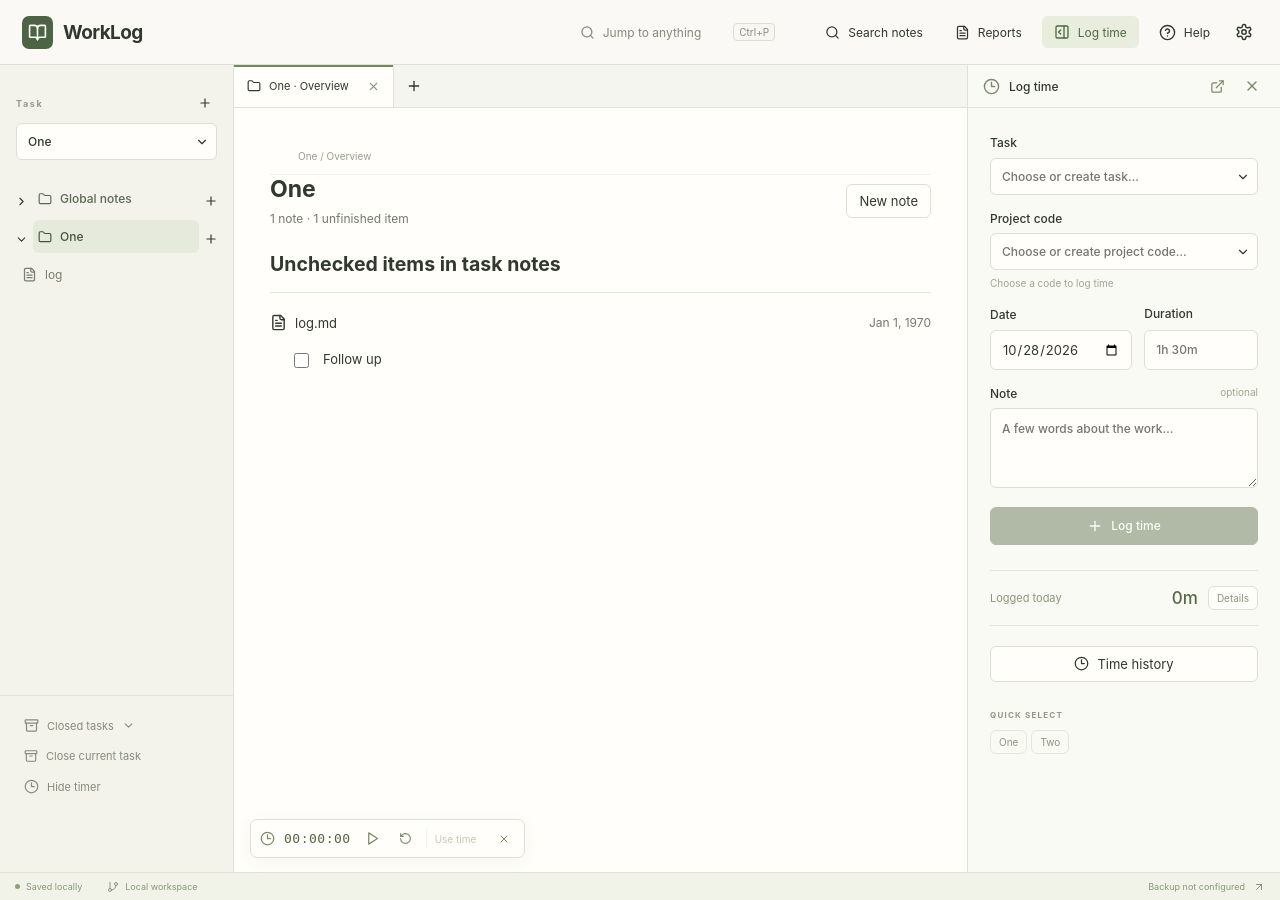
retains an explicitly selected time-entry task and its default code while another task is open
This screenshot has width=1280, height=900.
Click the 1st button titled "Open One overview · Drop here to move to One".
click(116, 236)  # box 33,220 -> 199,253
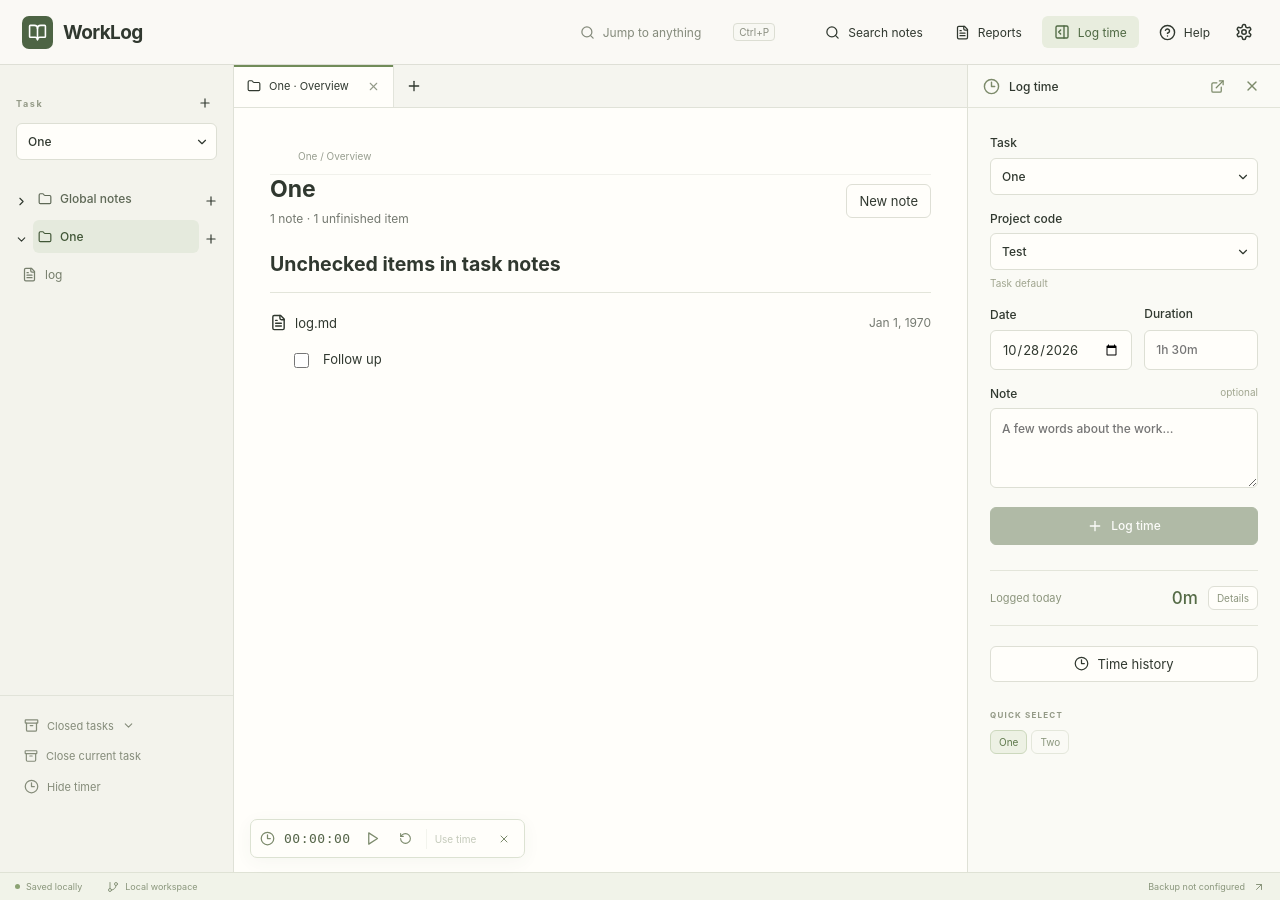
expect the 2nd dropdown named "task" holds "One": met
Focus the 2nd dropdown named "task" at (1124, 176), box 990,158 -> 1258,195
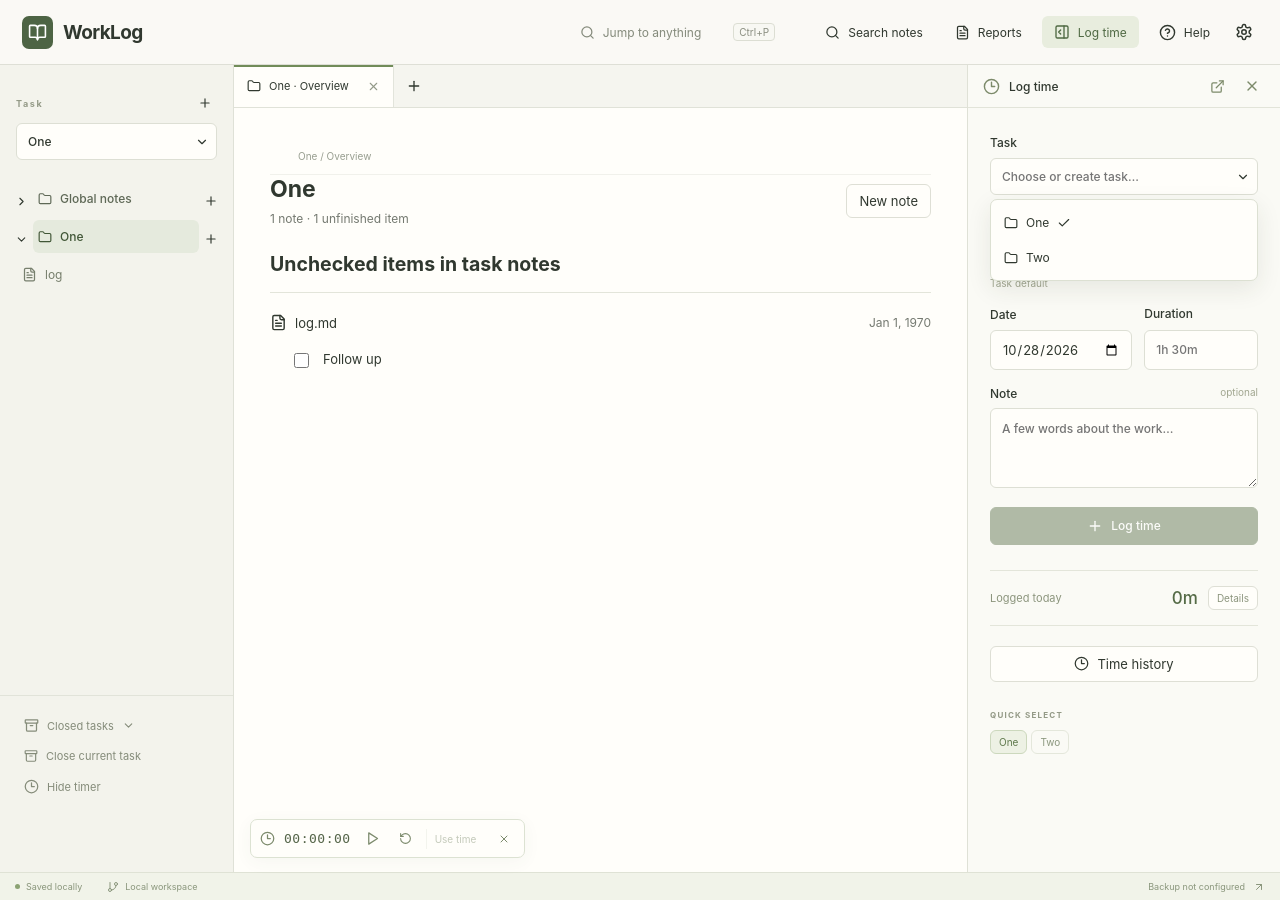
Click the option "Two".
click(1124, 258)  # box 996,240 -> 1252,275
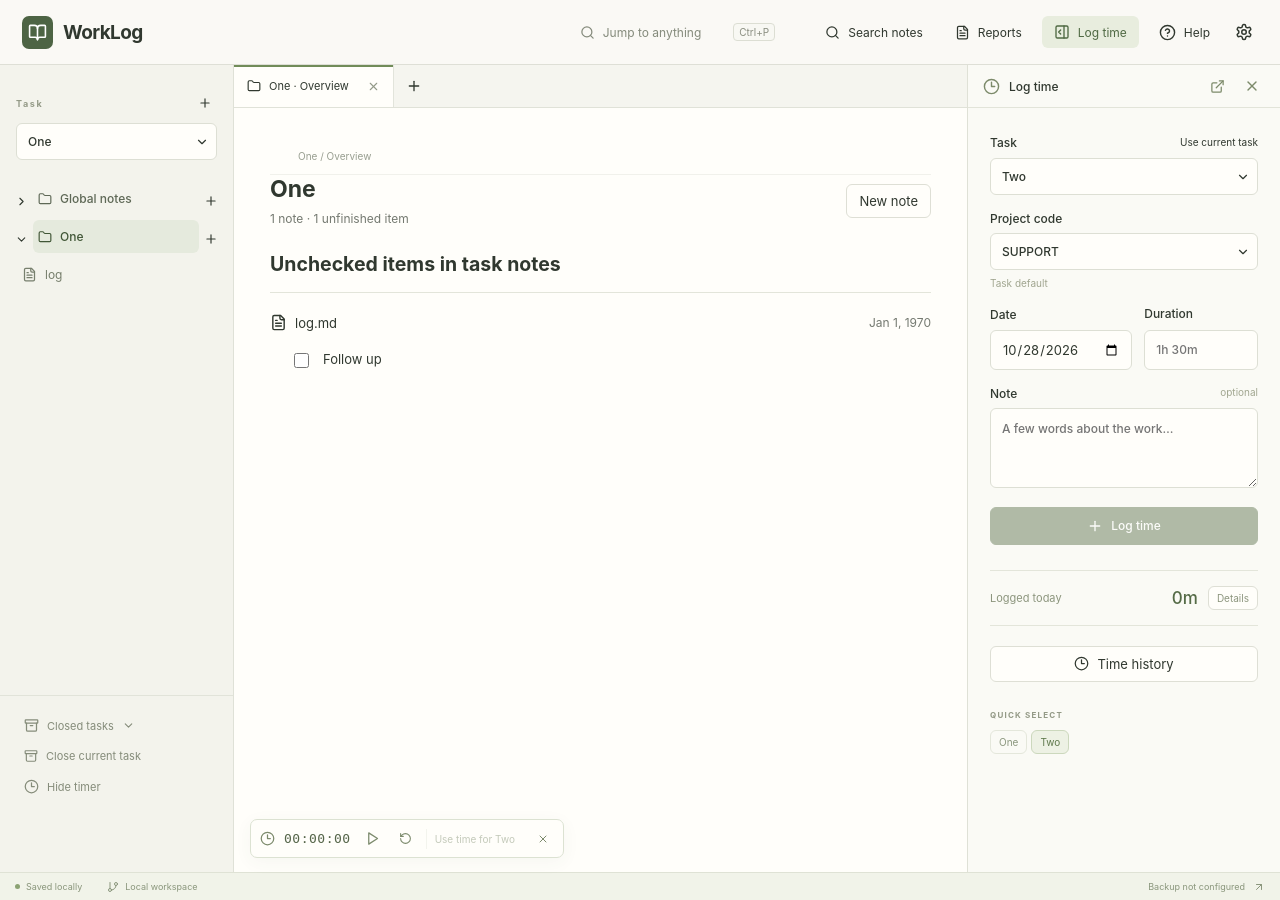
expect the 2nd dropdown named "task" holds "Two": met, box 990,158 -> 1258,195
expect the dropdown labelled "Project code" holds "SUPPORT": met, box 990,233 -> 1258,270
expect the button "Use current task" is shown: met
Click the button "Use current task".
click(1219, 142)  # box 1180,133 -> 1258,151
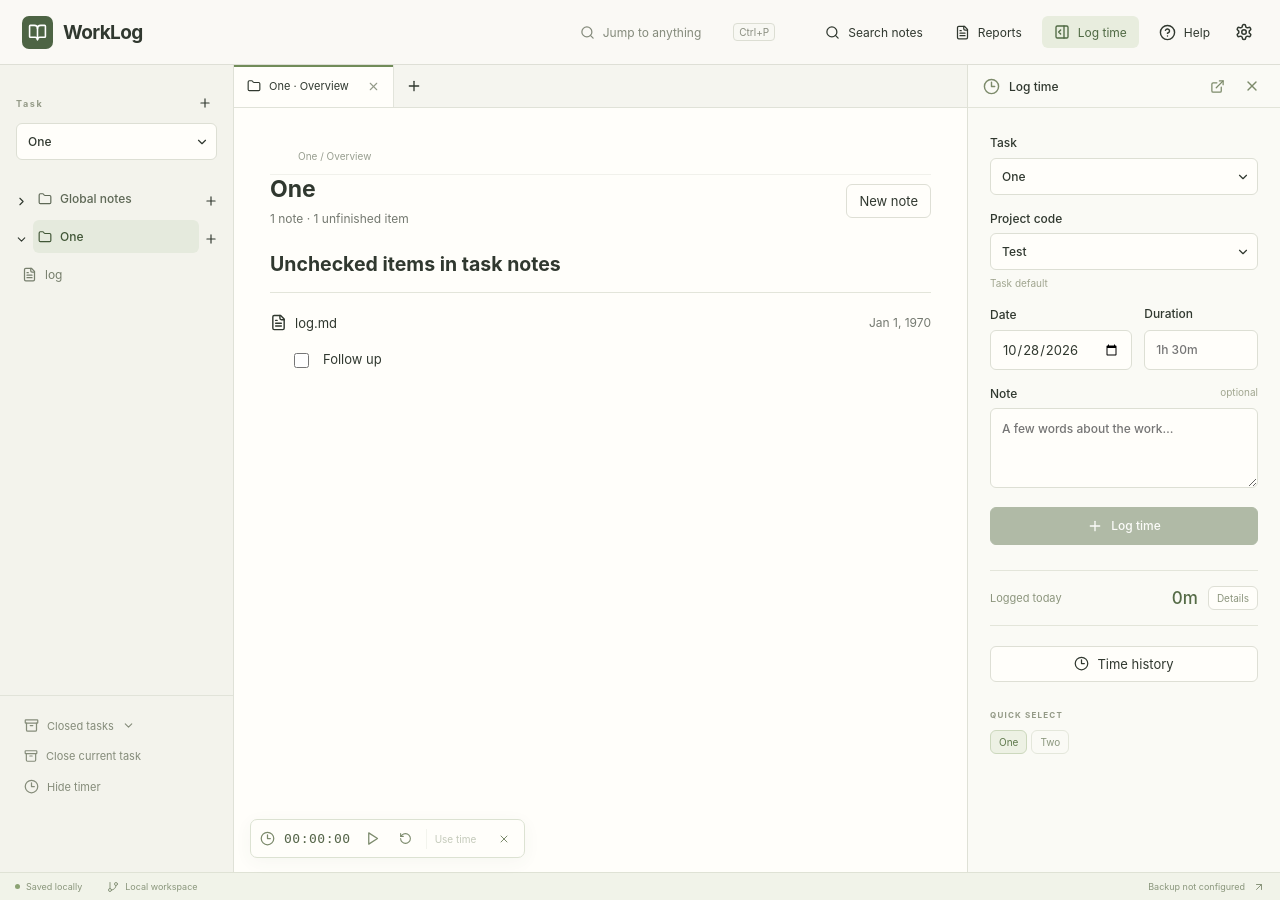
expect the 2nd dropdown named "task" holds "One": met, box 990,158 -> 1258,195
expect the dropdown labelled "Project code" holds "Test": met, box 990,233 -> 1258,270
expect the button "Use current task" is gone: met
